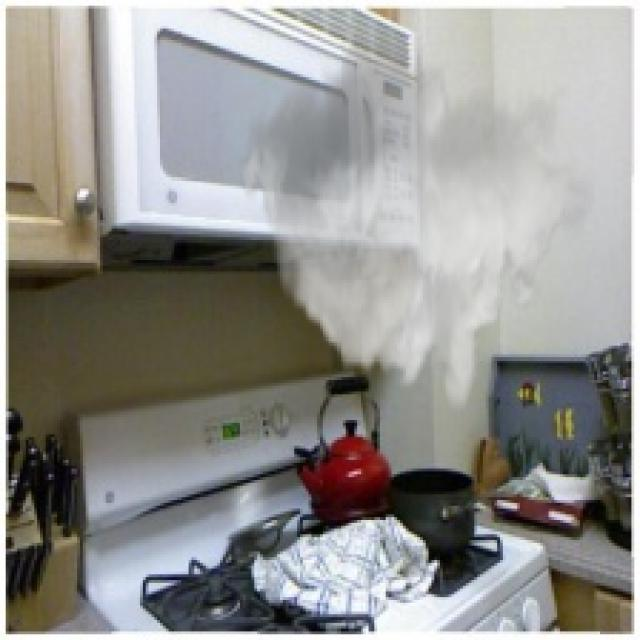smoke: (237, 26, 594, 417)
